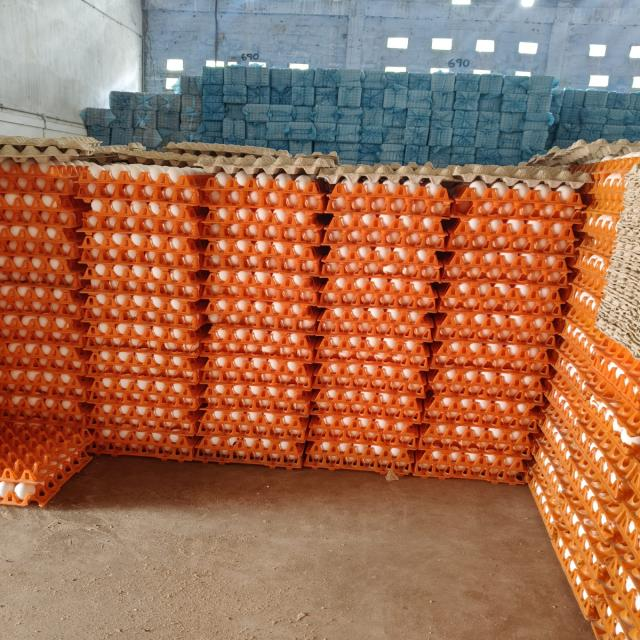egg_tray: (415, 181, 574, 481), (305, 180, 450, 474), (536, 262, 639, 637), (196, 171, 324, 468), (82, 165, 205, 459), (0, 160, 87, 504), (435, 180, 581, 346), (0, 160, 87, 423), (530, 425, 638, 636), (205, 171, 323, 333), (81, 200, 203, 353), (414, 342, 546, 483), (530, 477, 637, 640), (305, 334, 428, 474), (322, 180, 450, 312), (196, 325, 313, 467), (443, 180, 582, 298), (195, 330, 312, 468), (322, 180, 449, 305), (206, 171, 323, 305), (556, 272, 639, 455), (419, 342, 550, 457), (320, 218, 444, 339), (414, 368, 543, 482), (305, 352, 425, 474), (195, 343, 311, 467), (431, 288, 558, 401), (536, 411, 637, 552), (202, 170, 325, 284), (195, 351, 312, 468), (196, 351, 312, 468), (196, 350, 311, 468), (89, 341, 204, 459), (314, 306, 432, 421), (79, 164, 206, 270), (541, 390, 638, 527), (314, 307, 432, 419), (305, 362, 423, 474), (0, 284, 88, 432), (549, 308, 638, 454), (87, 340, 204, 451), (305, 364, 423, 474), (81, 248, 205, 351), (202, 170, 324, 273), (89, 350, 203, 460), (314, 312, 429, 421), (323, 180, 450, 278), (446, 180, 583, 270), (414, 385, 539, 483), (549, 323, 639, 456), (432, 282, 562, 374), (83, 256, 205, 354), (529, 459, 601, 621), (429, 313, 554, 405), (562, 308, 639, 455), (559, 294, 639, 428), (542, 406, 637, 518), (89, 342, 202, 435), (0, 160, 81, 288), (585, 167, 639, 358), (325, 180, 449, 262), (203, 325, 313, 414), (548, 360, 639, 467), (0, 285, 86, 398), (311, 342, 426, 423), (204, 327, 312, 412), (434, 279, 565, 348), (434, 278, 565, 347), (321, 242, 441, 312), (90, 380, 199, 454), (0, 330, 89, 419), (0, 420, 91, 506), (0, 256, 85, 346), (312, 355, 426, 422), (203, 268, 319, 333), (321, 252, 439, 313), (201, 168, 325, 222), (566, 207, 615, 343), (0, 208, 81, 289), (597, 500, 639, 637), (81, 255, 203, 302), (450, 179, 583, 222), (423, 385, 541, 433), (585, 352, 639, 456), (78, 163, 207, 206), (0, 358, 88, 420), (0, 193, 80, 261), (581, 159, 635, 258), (82, 227, 203, 270), (329, 178, 451, 220), (326, 206, 447, 248), (445, 217, 574, 256), (84, 289, 206, 330), (85, 314, 205, 355), (89, 369, 203, 412), (205, 205, 324, 246), (89, 393, 201, 436), (83, 199, 203, 239), (0, 332, 87, 387), (437, 281, 566, 318), (320, 274, 437, 314), (442, 251, 570, 287), (204, 207, 322, 246), (429, 367, 544, 406), (430, 341, 553, 377), (321, 244, 440, 281), (434, 312, 556, 348), (425, 395, 542, 432), (203, 239, 319, 276), (87, 293, 200, 330), (203, 270, 319, 306), (527, 436, 571, 530), (0, 193, 81, 244), (413, 448, 526, 484), (87, 349, 203, 384), (316, 307, 432, 342), (418, 423, 534, 458), (305, 438, 414, 475), (201, 354, 313, 390), (202, 327, 314, 363), (571, 157, 637, 217), (315, 335, 428, 370), (206, 297, 318, 332), (308, 415, 419, 450), (315, 362, 426, 397), (0, 209, 77, 259), (197, 410, 307, 444), (195, 435, 304, 469), (89, 428, 197, 461), (596, 554, 639, 636), (0, 216, 79, 260), (589, 340, 639, 406), (577, 154, 638, 208), (0, 158, 85, 195), (89, 293, 197, 322), (567, 246, 609, 318), (0, 254, 82, 290), (0, 282, 84, 317), (164, 142, 291, 164), (0, 312, 84, 344), (0, 136, 100, 162), (581, 194, 622, 257), (595, 339, 639, 395), (581, 192, 617, 258), (591, 593, 638, 640), (94, 165, 203, 184), (572, 246, 609, 299), (581, 210, 618, 258), (0, 288, 63, 315), (566, 281, 599, 316), (441, 284, 490, 306), (6, 334, 52, 351), (465, 290, 499, 310), (325, 336, 369, 347), (530, 185, 560, 201), (370, 336, 404, 348), (394, 340, 419, 354), (181, 385, 198, 402), (330, 260, 353, 272), (486, 287, 511, 298), (594, 172, 608, 190), (521, 304, 541, 316), (368, 183, 402, 190), (330, 212, 342, 229), (532, 484, 543, 502), (327, 255, 337, 274), (163, 328, 183, 337), (360, 265, 380, 274), (69, 301, 81, 316), (140, 443, 156, 454), (543, 207, 556, 218), (371, 249, 385, 259), (628, 587, 636, 604), (163, 382, 180, 390), (173, 448, 185, 459), (611, 454, 623, 465), (436, 201, 446, 214), (457, 187, 469, 197), (383, 266, 397, 274), (382, 309, 396, 317), (137, 380, 151, 388), (347, 264, 358, 274), (117, 379, 130, 387), (458, 439, 467, 450), (356, 296, 370, 303), (53, 345, 65, 353), (420, 344, 426, 360), (453, 260, 469, 266), (362, 309, 378, 315), (446, 304, 461, 310), (452, 201, 458, 216), (556, 390, 565, 400), (582, 235, 590, 246), (94, 379, 106, 386), (570, 560, 577, 572), (567, 208, 574, 220), (468, 298, 477, 307), (603, 161, 618, 166), (612, 174, 621, 182), (212, 304, 221, 312), (231, 308, 241, 315), (181, 385, 192, 391), (354, 183, 367, 188), (111, 324, 119, 332), (331, 250, 339, 258), (612, 454, 620, 462), (452, 369, 473, 372), (540, 310, 549, 317), (130, 341, 142, 346), (47, 484, 52, 496), (578, 166, 593, 170), (503, 304, 513, 310), (377, 409, 385, 416), (349, 309, 360, 314), (344, 248, 349, 258), (336, 183, 344, 189), (583, 347, 591, 353), (87, 181, 92, 190), (55, 478, 60, 486), (3, 299, 11, 304), (127, 382, 133, 388), (147, 343, 156, 347), (492, 432, 501, 436), (567, 572, 571, 581), (439, 304, 445, 310), (151, 325, 156, 332), (34, 310, 41, 315), (256, 218, 263, 223), (445, 287, 452, 292), (447, 285, 452, 292), (173, 451, 188, 453), (511, 274, 516, 280), (191, 254, 197, 259), (44, 360, 51, 364), (373, 300, 380, 304), (591, 297, 596, 302), (38, 494, 43, 499), (572, 518, 577, 523), (247, 342, 251, 348), (332, 200, 340, 203), (623, 403, 629, 407), (581, 292, 584, 299), (416, 353, 420, 358), (154, 240, 159, 244), (250, 309, 254, 314), (62, 417, 66, 422), (236, 330, 246, 332), (561, 264, 565, 269), (321, 446, 327, 449), (394, 251, 400, 254), (59, 317, 65, 320), (379, 316, 385, 319), (563, 193, 566, 199), (420, 200, 424, 204), (631, 527, 635, 531), (451, 272, 455, 276), (69, 296, 73, 300), (203, 200, 207, 204), (384, 318, 388, 322), (166, 443, 171, 446), (534, 378, 539, 381), (458, 269, 463, 272), (471, 263, 476, 266), (612, 198, 615, 203), (577, 549, 580, 554), (87, 309, 94, 311), (116, 444, 119, 448), (107, 379, 110, 383), (249, 350, 252, 354), (389, 214, 393, 217), (345, 214, 351, 216), (419, 187, 425, 189), (45, 392, 48, 396), (516, 390, 522, 392), (301, 176, 307, 178), (477, 263, 483, 265), (43, 266, 46, 270), (585, 565, 588, 569), (74, 273, 77, 277), (458, 288, 461, 292), (313, 270, 316, 274), (518, 390, 522, 393), (436, 411, 440, 414), (543, 263, 547, 266), (134, 442, 139, 444), (126, 310, 131, 312), (619, 350, 621, 355), (609, 350, 614, 352), (115, 325, 117, 330), (379, 256, 384, 258), (0, 289, 2, 294), (168, 324, 171, 327), (51, 334, 54, 337), (25, 194, 28, 197), (71, 334, 74, 337), (585, 562, 588, 565), (203, 200, 206, 203), (370, 407, 373, 410), (596, 505, 599, 508), (162, 451, 166, 453), (394, 265, 396, 269), (81, 453, 83, 457), (53, 298, 57, 300), (53, 290, 57, 292), (367, 214, 374, 215), (124, 447, 126, 450), (170, 337, 172, 340), (109, 384, 112, 386), (285, 347, 288, 349), (573, 301, 575, 304), (318, 201, 321, 203), (107, 258, 113, 259), (490, 271, 493, 273), (43, 264, 46, 266), (62, 296, 64, 299), (572, 541, 574, 544), (617, 518, 620, 520), (0, 258, 2, 261), (537, 380, 539, 383), (360, 265, 362, 268), (87, 170, 89, 173), (269, 332, 274, 333), (548, 282, 553, 283), (34, 269, 39, 270), (443, 387, 448, 388), (516, 285, 521, 286), (182, 396, 184, 398), (109, 386, 111, 388), (586, 542, 588, 544), (150, 256, 152, 258), (634, 158, 636, 160), (136, 304, 138, 306), (487, 271, 489, 273), (390, 256, 392, 258), (533, 478, 535, 480), (608, 182, 610, 184), (600, 634, 602, 636), (72, 392, 74, 394), (42, 332, 43, 336), (466, 372, 470, 373), (563, 211, 565, 213), (132, 392, 136, 393), (548, 344, 551, 345), (122, 323, 125, 324), (394, 218, 397, 219), (619, 465, 622, 466), (131, 340, 134, 341), (7, 214, 10, 215), (3, 210, 6, 211), (326, 327, 329, 328), (91, 167, 94, 168), (113, 340, 115, 341), (106, 309, 108, 310), (332, 196, 334, 197), (574, 317, 575, 319), (601, 251, 603, 252), (66, 292, 68, 293), (552, 538, 553, 540), (625, 580, 626, 582), (104, 436, 106, 437), (498, 285, 500, 286), (468, 416, 470, 417), (428, 410, 429, 412), (124, 379, 126, 380), (98, 447, 99, 448), (385, 214, 386, 215), (427, 207, 428, 208), (357, 345, 358, 346), (29, 245, 30, 246), (567, 401, 568, 402), (626, 418, 627, 419), (634, 481, 635, 482), (87, 178, 88, 179), (560, 467, 561, 468), (62, 318, 63, 319), (76, 272, 77, 273), (596, 565, 597, 566), (325, 327, 326, 328), (527, 287, 528, 288), (90, 167, 91, 168), (132, 449, 132, 450), (129, 448, 131, 448), (299, 354, 299, 354), (334, 218, 334, 220), (438, 270, 438, 270), (205, 199, 205, 204), (429, 219, 431, 219), (403, 187, 403, 188), (54, 342, 54, 343), (8, 286, 10, 286), (394, 260, 394, 262), (417, 256, 417, 257), (322, 200, 322, 201), (310, 183, 314, 183), (172, 247, 172, 248), (610, 632, 610, 632), (605, 339, 608, 339), (590, 347, 590, 350), (574, 291, 574, 292), (423, 252, 423, 252), (47, 498, 47, 498), (65, 472, 66, 472), (70, 472, 70, 472), (85, 444, 85, 446), (41, 306, 41, 308), (74, 167, 74, 168), (2, 288, 3, 288), (0, 250, 1, 250), (561, 545, 561, 546), (605, 536, 605, 537), (210, 441, 210, 443), (47, 205, 47, 206), (12, 203, 12, 204), (373, 416, 375, 416), (330, 310, 333, 310), (534, 290, 534, 290), (154, 183, 155, 183), (105, 436, 106, 436), (196, 398, 196, 400)
